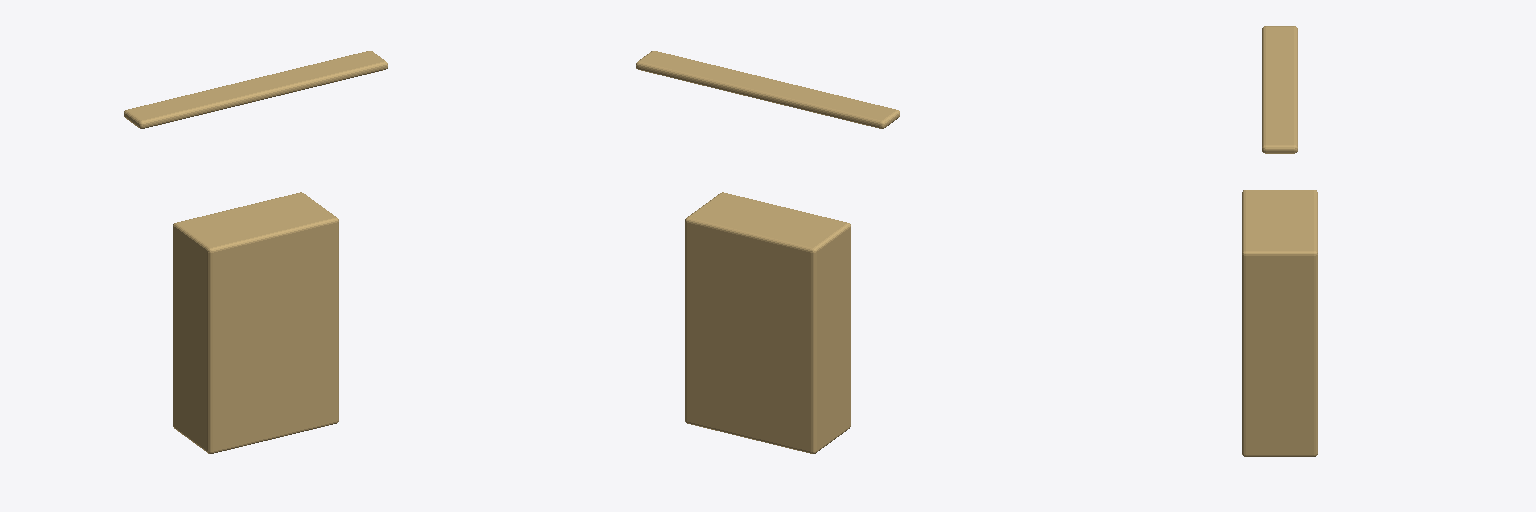
The picture shows the model from 3 angles: view 1: azimuth 30°, elevation 25°; view 2: azimuth 150°, elevation 25°; view 3: azimuth 270°, elevation 25°; orthographic projection.
Parts seen in each view (by area): view 1: Shopping_Bag; view 2: Shopping_Bag; view 3: Shopping_Bag.
Part boxes in pixels (bbox=[...]): Shopping_Bag: bbox=[124, 51, 387, 453]; Shopping_Bag: bbox=[636, 51, 899, 453]; Shopping_Bag: bbox=[1242, 26, 1317, 456].
Size of the model in its own units: 1.53 by 2 by 0.4032.